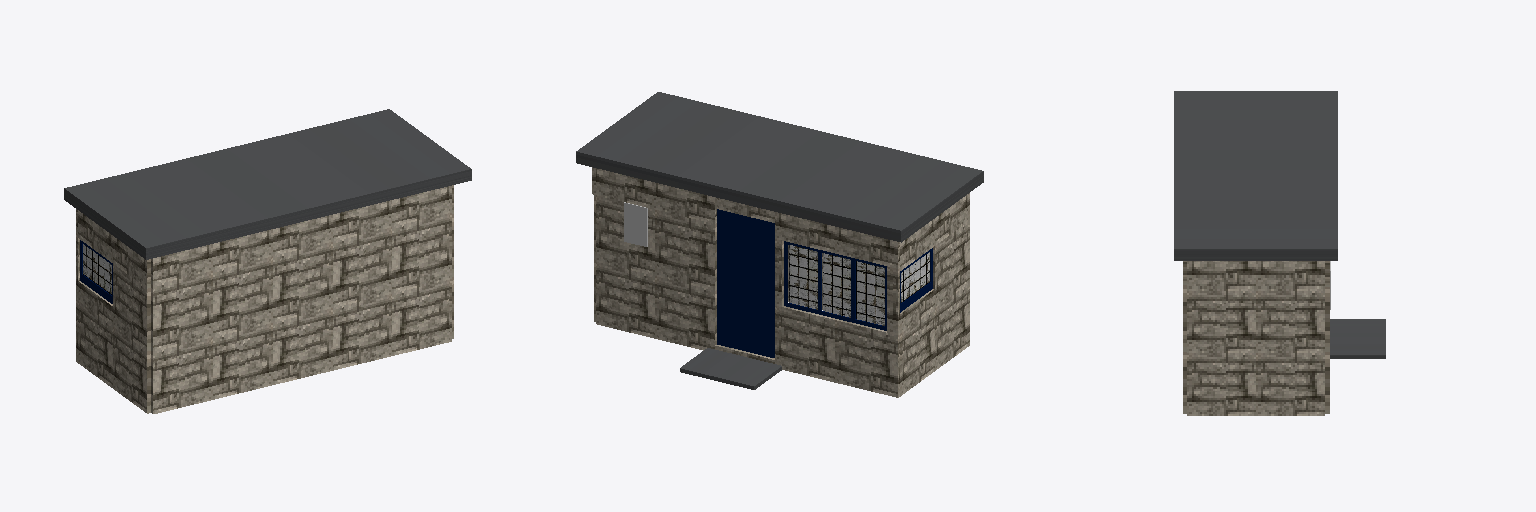
3 views of the same model, side by side, from view 1: azimuth 30°, elevation 25°; view 2: azimuth 150°, elevation 25°; view 3: azimuth 270°, elevation 25° (orthographic).
Visible parts, largest first — view 1: cube; view 2: cube; view 3: cube.
Part boxes in pixels (x1,y1,x2,y2): cube: (64, 109, 471, 413); cube: (576, 92, 983, 397); cube: (1174, 91, 1385, 415).
Size of the model in its own units: 5.44 by 2.75 by 3.06.
5 materials, 4 textured.